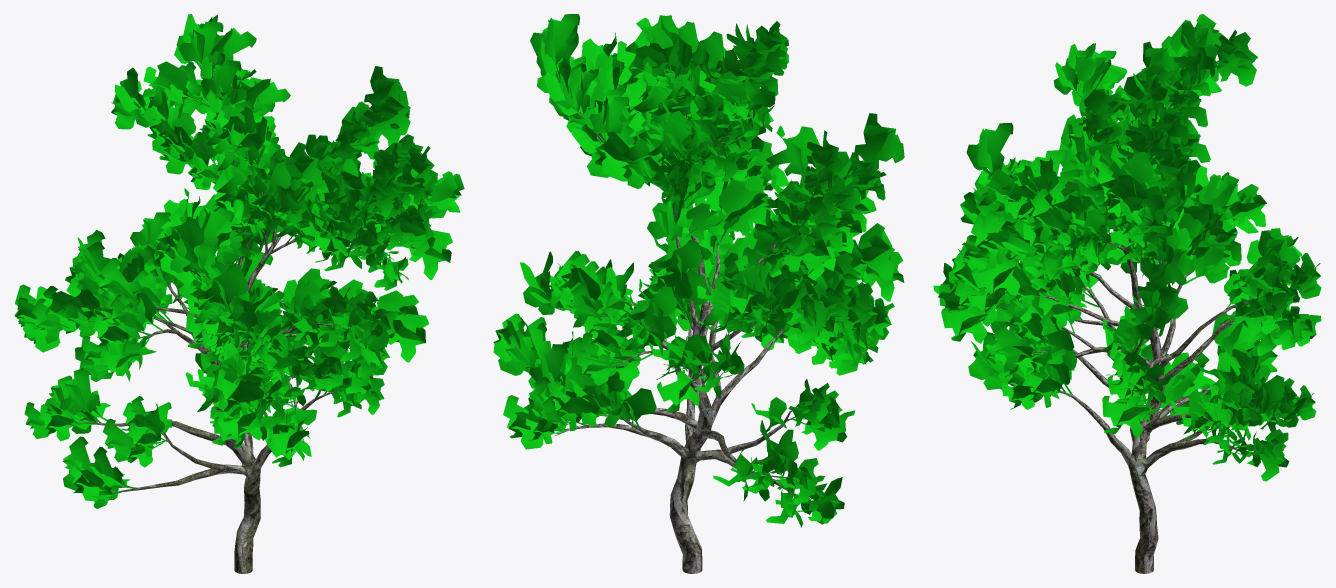
The model's file is tree_for_game.obj.
3 views of the same model, side by side, from view 1: azimuth 30°, elevation 25°; view 2: azimuth 150°, elevation 25°; view 3: azimuth 270°, elevation 25° (orthographic). The views are drawn at different scales.
Visible parts, largest first — view 1: Plane.197_Material.003, Plane.197_twig; view 2: Plane.197_Material.003, Plane.197_twig; view 3: Plane.197_Material.003, Plane.197_twig.
Boxes of the visible parts, x1=… form: Plane.197_Material.003: x1=14, y1=14, x2=464, y2=508; Plane.197_twig: x1=73, y1=63, x2=383, y2=573; Plane.197_Material.003: x1=493, y1=14, x2=904, y2=527; Plane.197_twig: x1=555, y1=68, x2=837, y2=573; Plane.197_Material.003: x1=933, y1=14, x2=1321, y2=481; Plane.197_twig: x1=999, y1=81, x2=1279, y2=573.
Bounding box in the file's own units: 15.95 × 21.59 × 14.03.
Materials: 2 (1 with a texture image).
